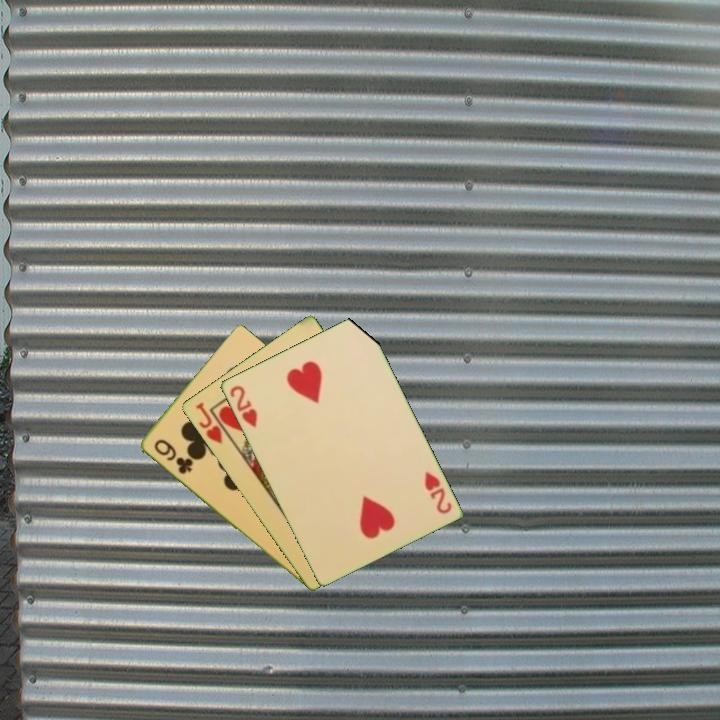2h: (226, 382, 260, 431), (420, 468, 454, 517)
9c: (150, 435, 195, 477)
Jh: (192, 398, 235, 447)
